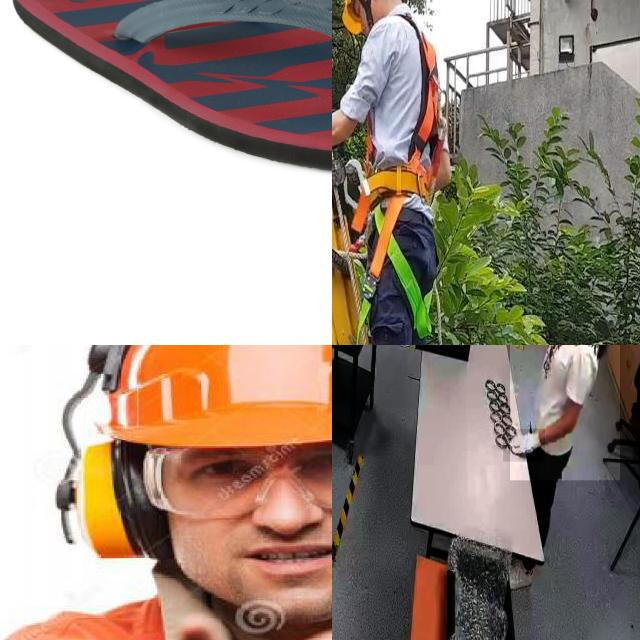Ear-protection: (40, 414, 332, 565)
Harness: (352, 13, 444, 345)
Sandals: (11, 0, 332, 179)
glasses: (121, 434, 332, 531)
hand_glove: (503, 428, 545, 462)
head_helmet: (67, 345, 332, 454)
person: (0, 345, 332, 640), (509, 345, 620, 481)
